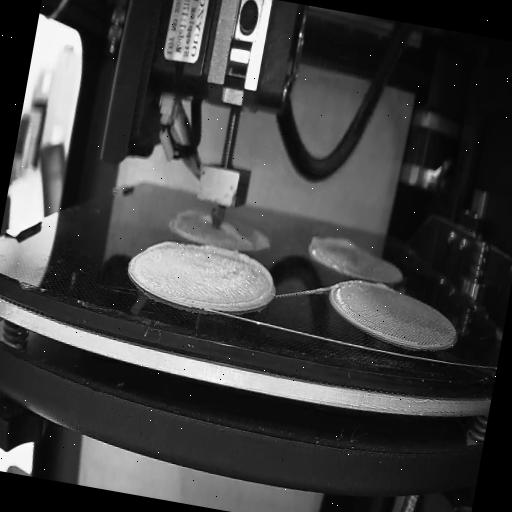over_extrusion: (186, 242, 280, 322), (304, 228, 360, 260), (145, 233, 181, 257), (218, 220, 252, 245), (372, 280, 394, 294), (194, 210, 213, 224)
